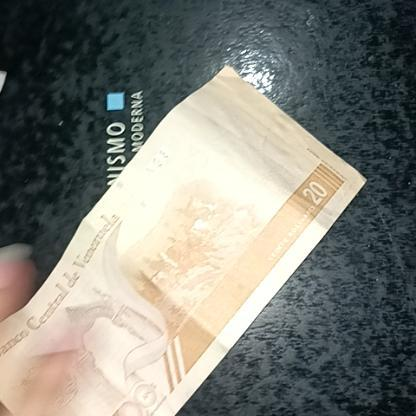twenty-back-vef: (0, 62, 378, 416)
